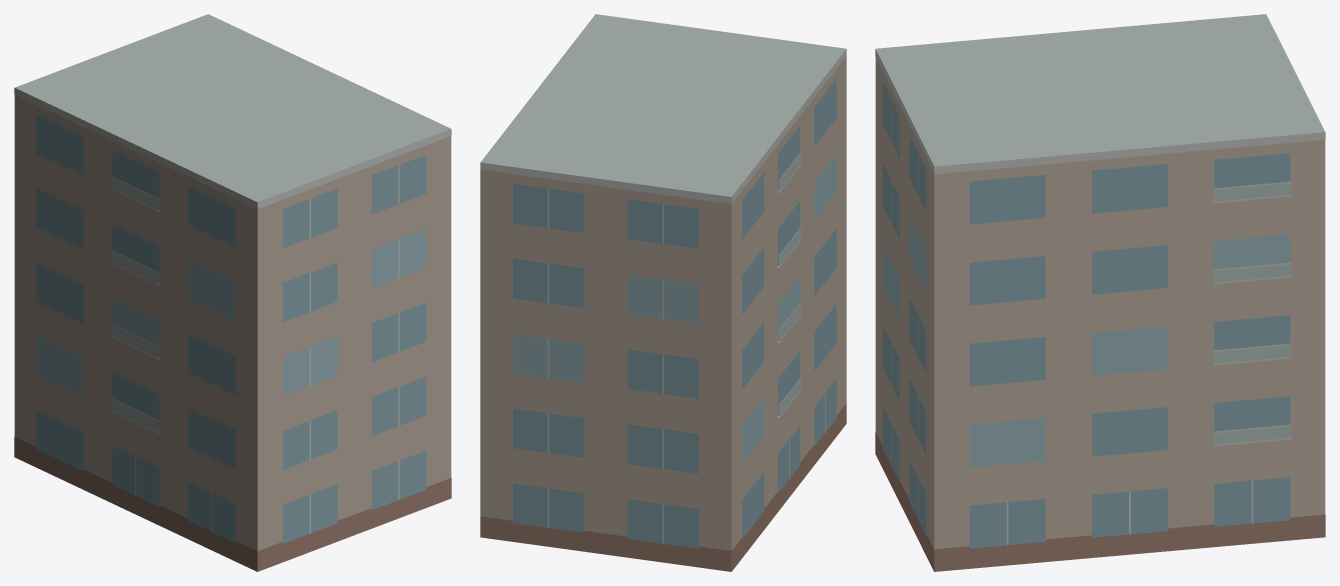
Rendered from survey-upis-32988005.glb.
The picture shows the model from 3 angles, left to right: view 1: azimuth 30°, elevation 25°; view 2: azimuth 150°, elevation 25°; view 3: azimuth 270°, elevation 25°; orthographic projection. The views are drawn at different scales.
Parts seen in each view (by area): view 1: survey-upis-32988005.tmp; view 2: survey-upis-32988005.tmp; view 3: survey-upis-32988005.tmp.
Part boxes in pixels (left/top/right/bottom): survey-upis-32988005.tmp: left=14, top=14, right=451, bottom=571; survey-upis-32988005.tmp: left=480, top=14, right=846, bottom=571; survey-upis-32988005.tmp: left=875, top=14, right=1325, bottom=571.
Size of the model in its own units: 10.4 by 12.85 by 12.94.
